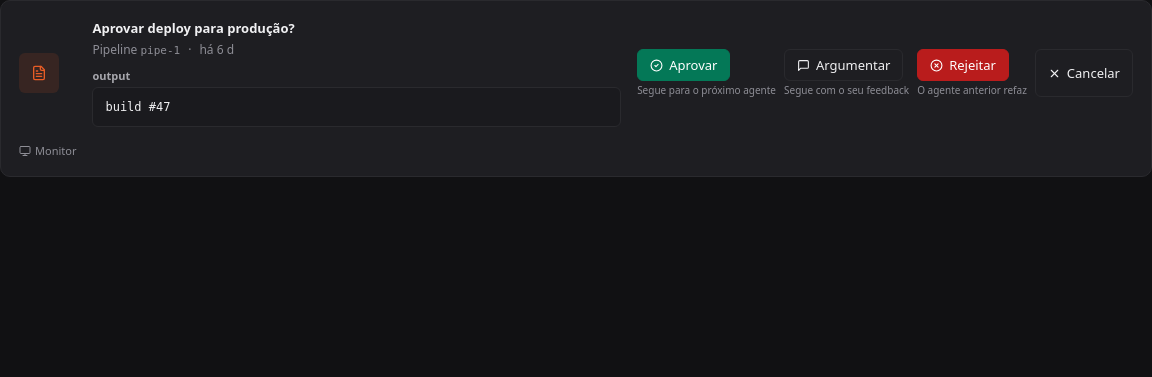
Test case: ApprovalPanel › opens argument textarea when Argumentar is clicked
This screenshot has width=1152, height=377.
Click the button "Argumentar" at (844, 65), box [784,49,904,81]
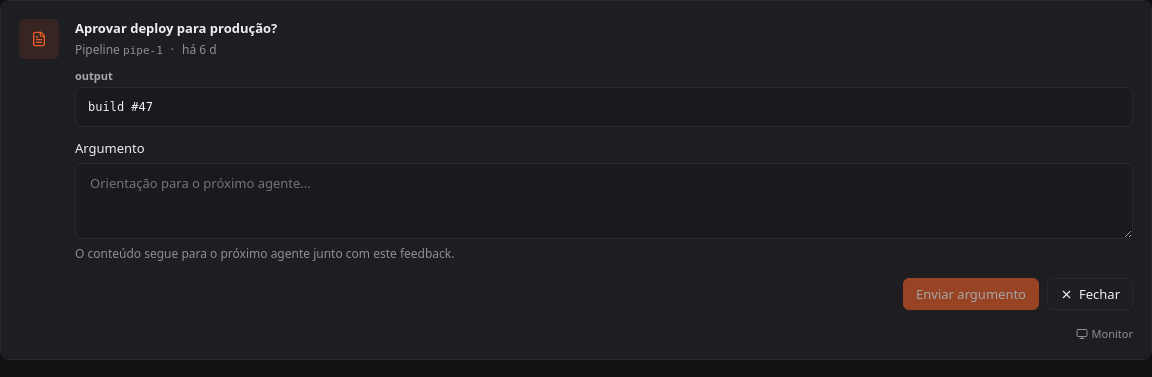
Expected: the text box is shown, [75,163,1133,239]
